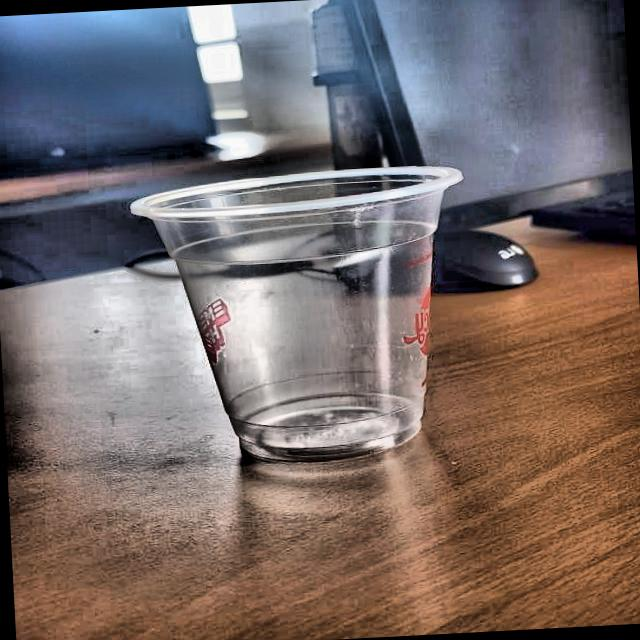plastic cup: (129, 162, 480, 474)
